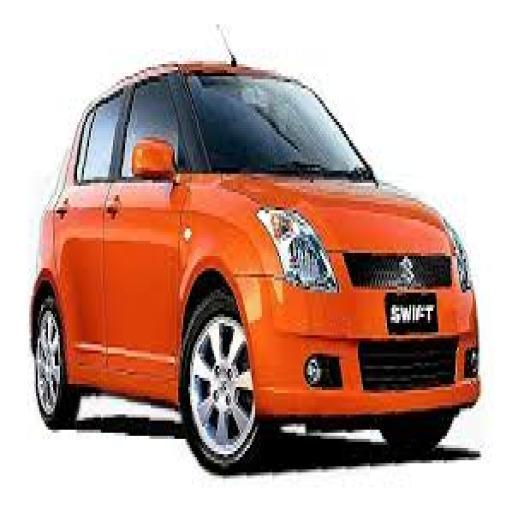car: (18, 34, 488, 484)
